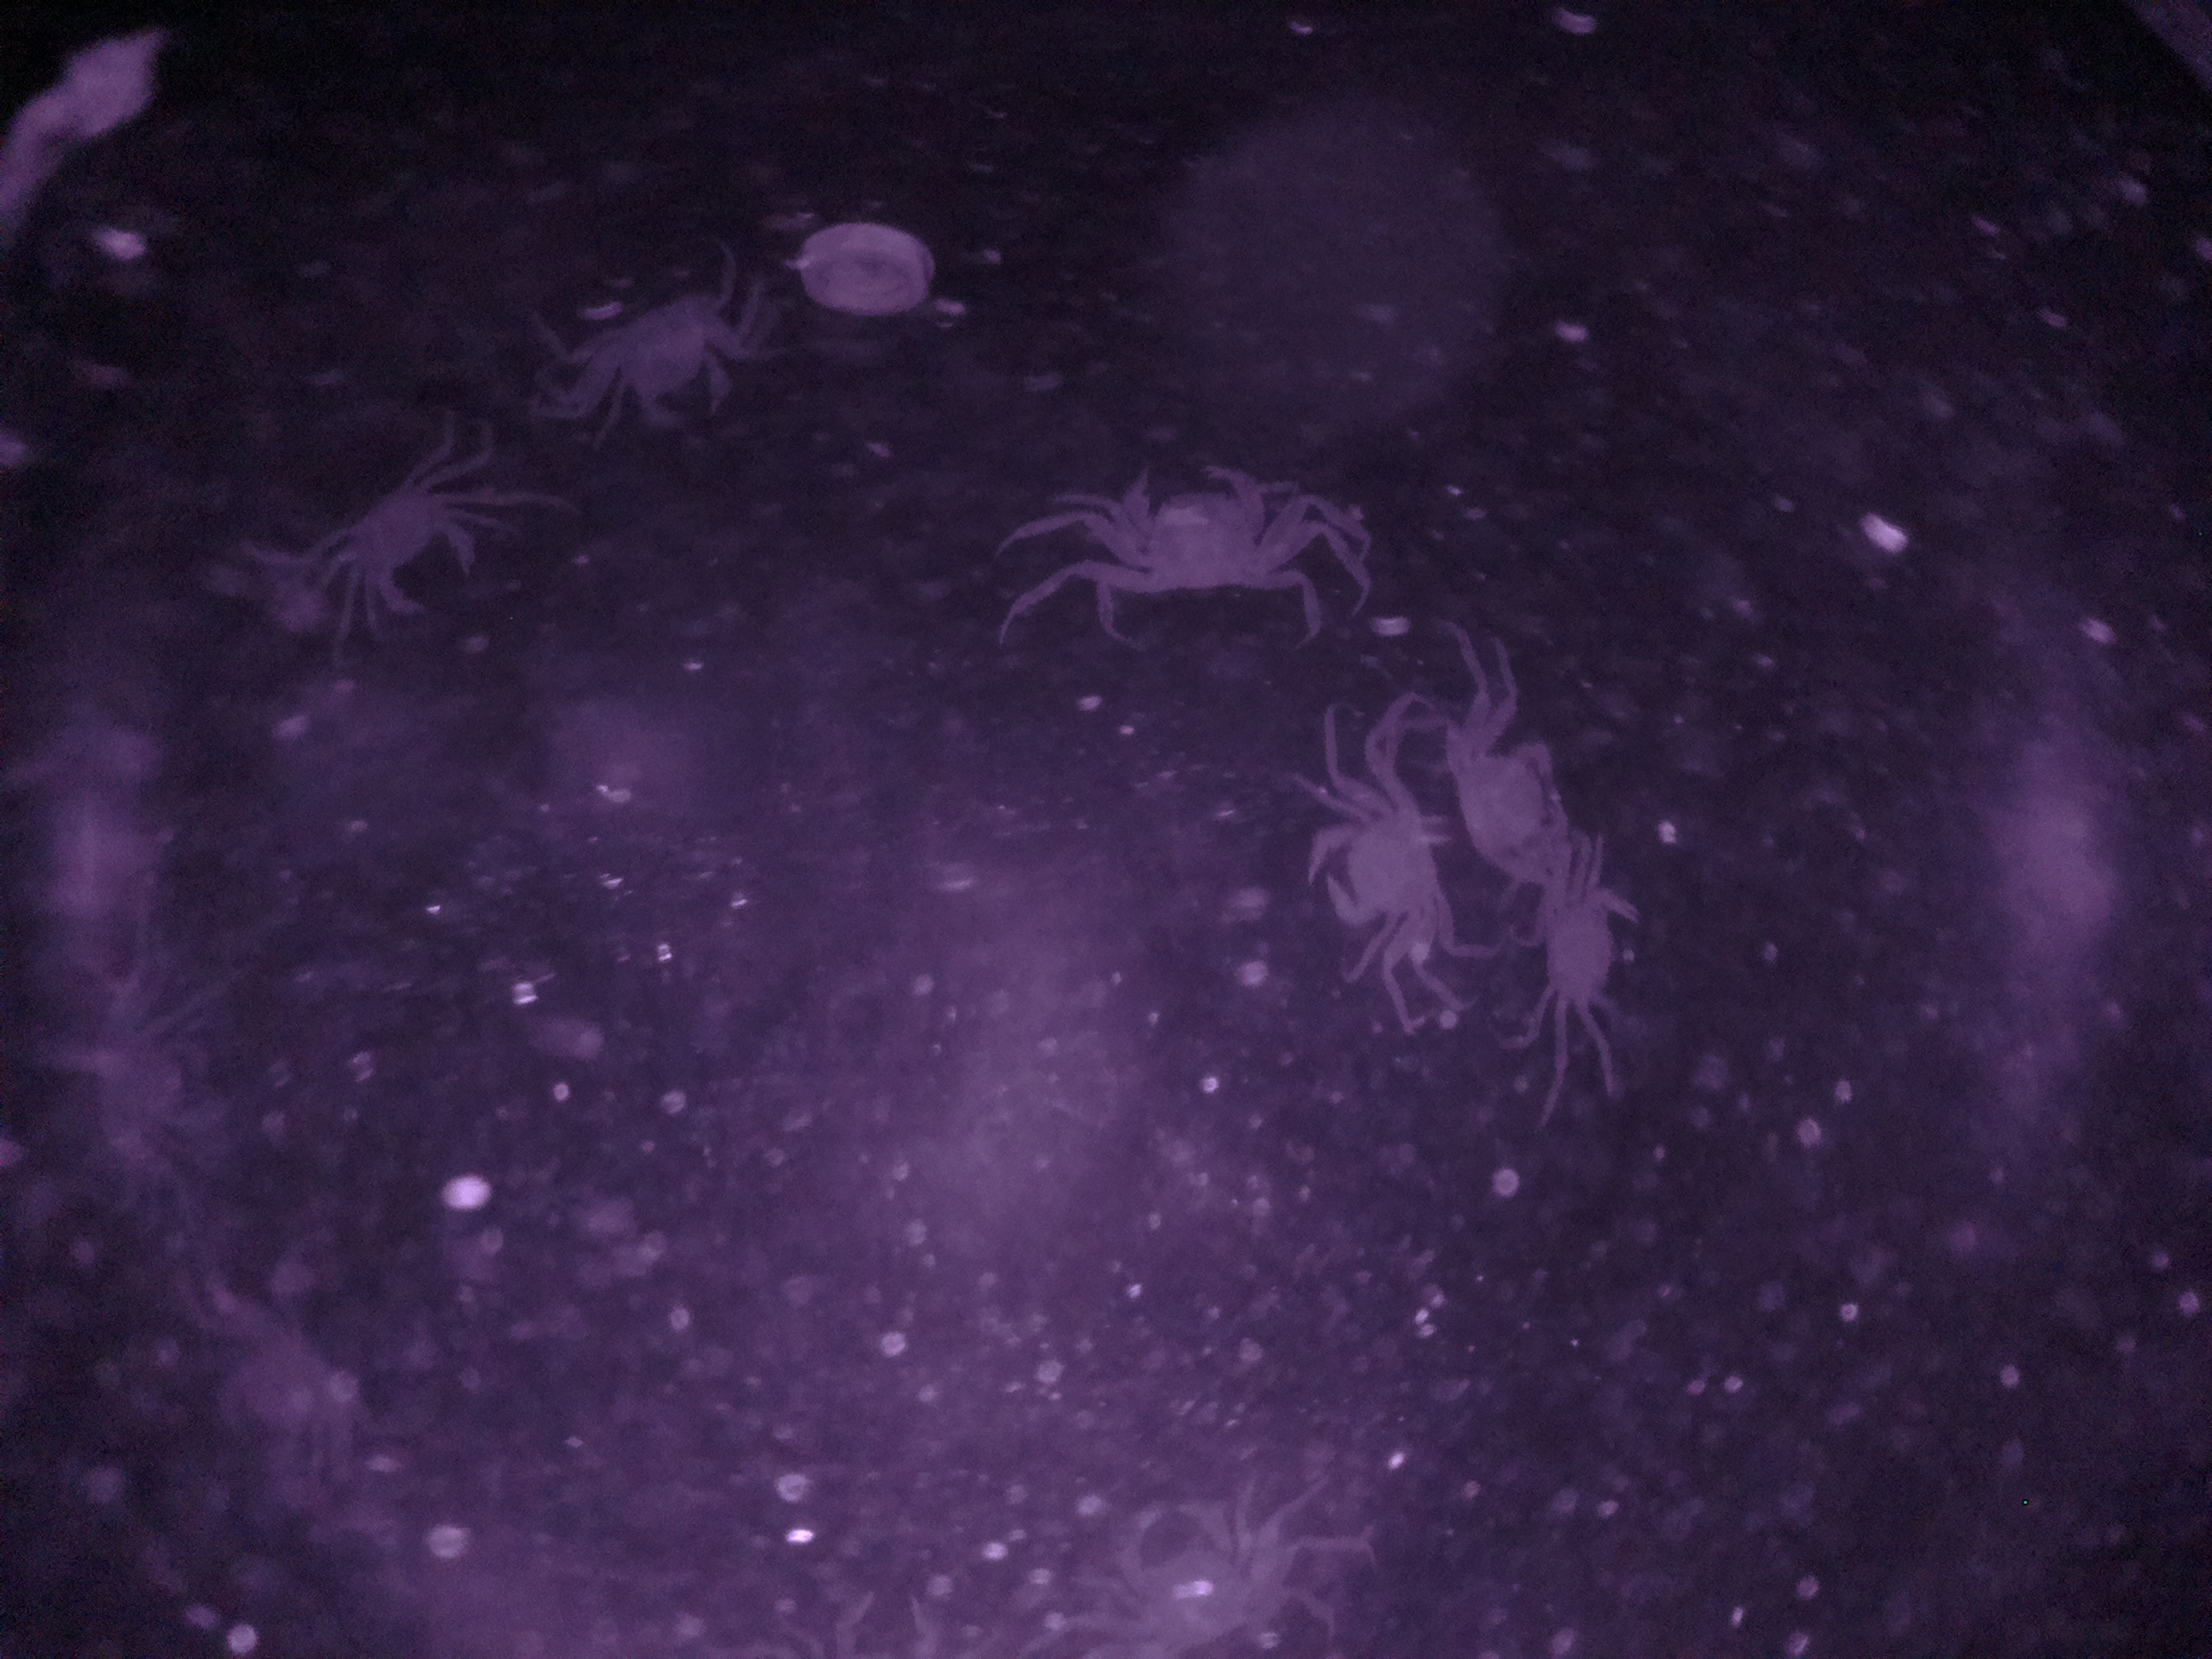Crab: (300, 455, 507, 647), (1073, 451, 1292, 627), (577, 263, 758, 462), (1277, 762, 1446, 967)
